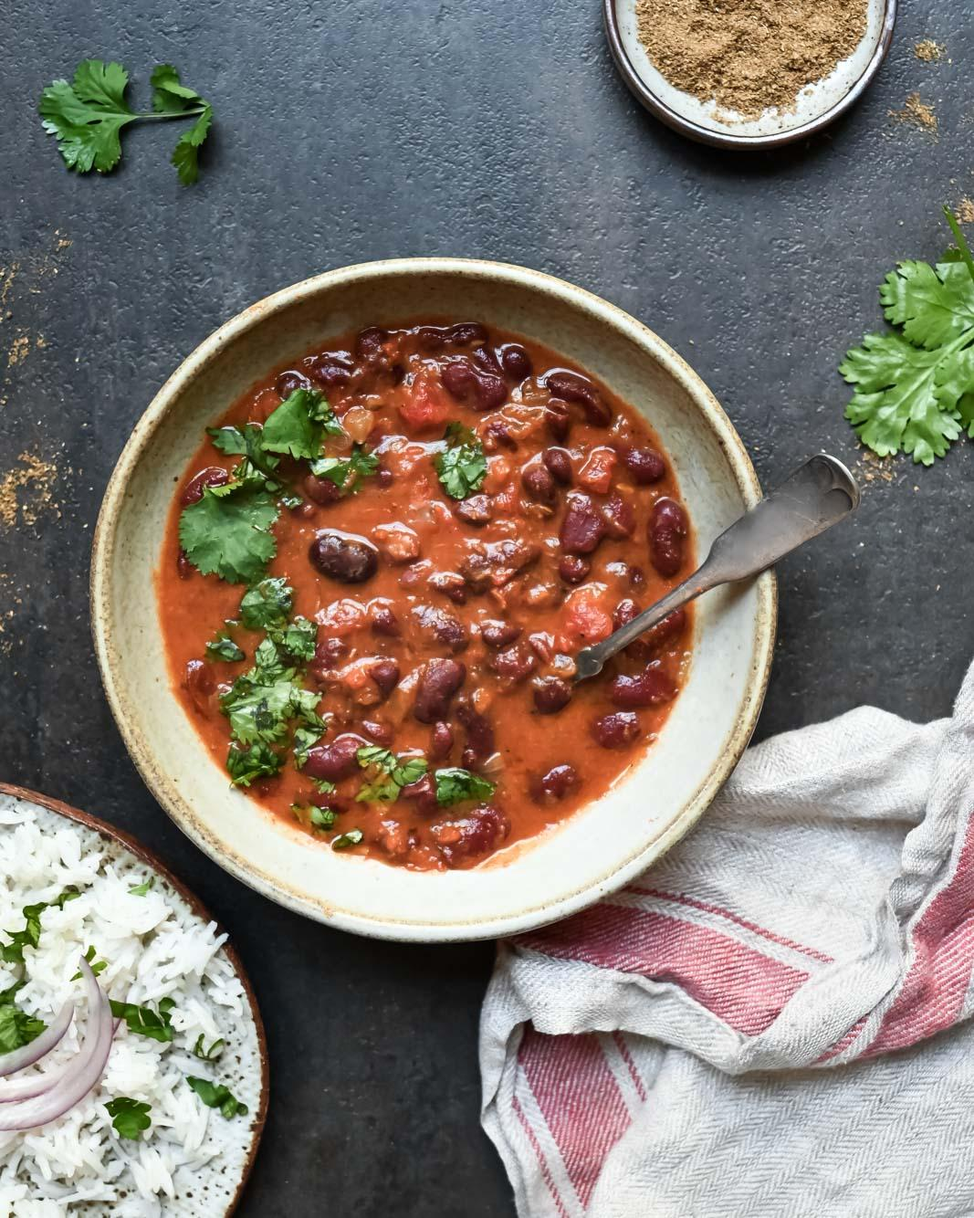rajma: (137, 332, 666, 861)
